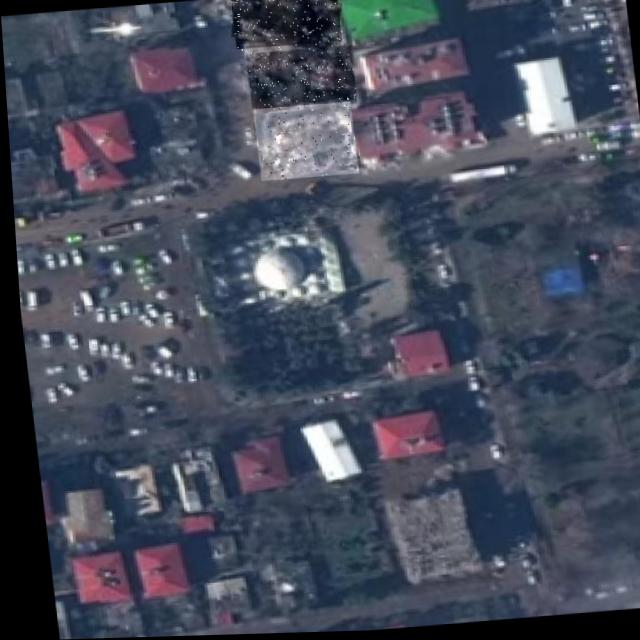Rubble: (250, 104, 356, 183), (243, 48, 356, 113), (227, 0, 343, 56)
